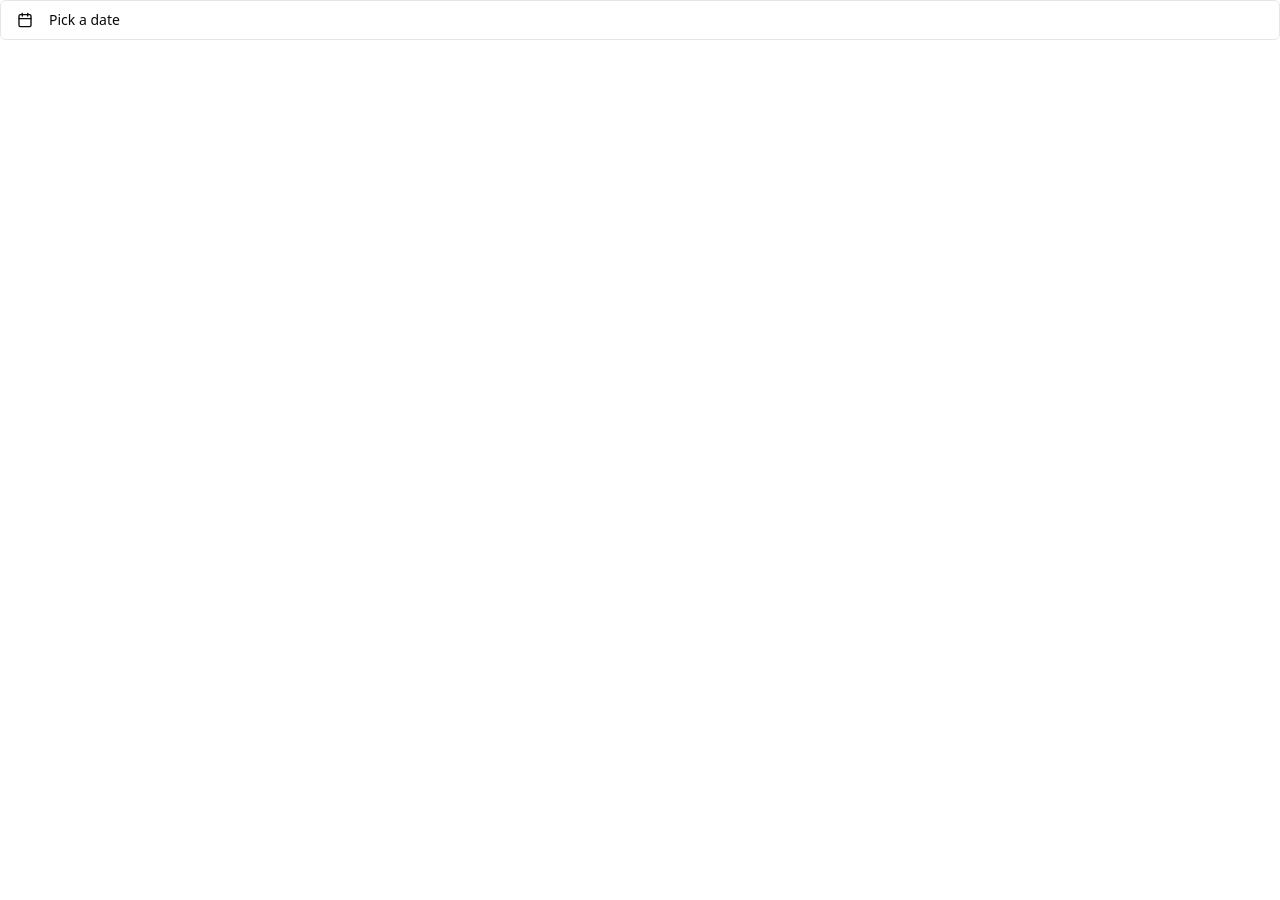
Test: DatePicker › renders drawer on mobile
Step 1. Click the button with test id "datepicker-trigger" → (84, 20), box [0, 0, 1279, 40]
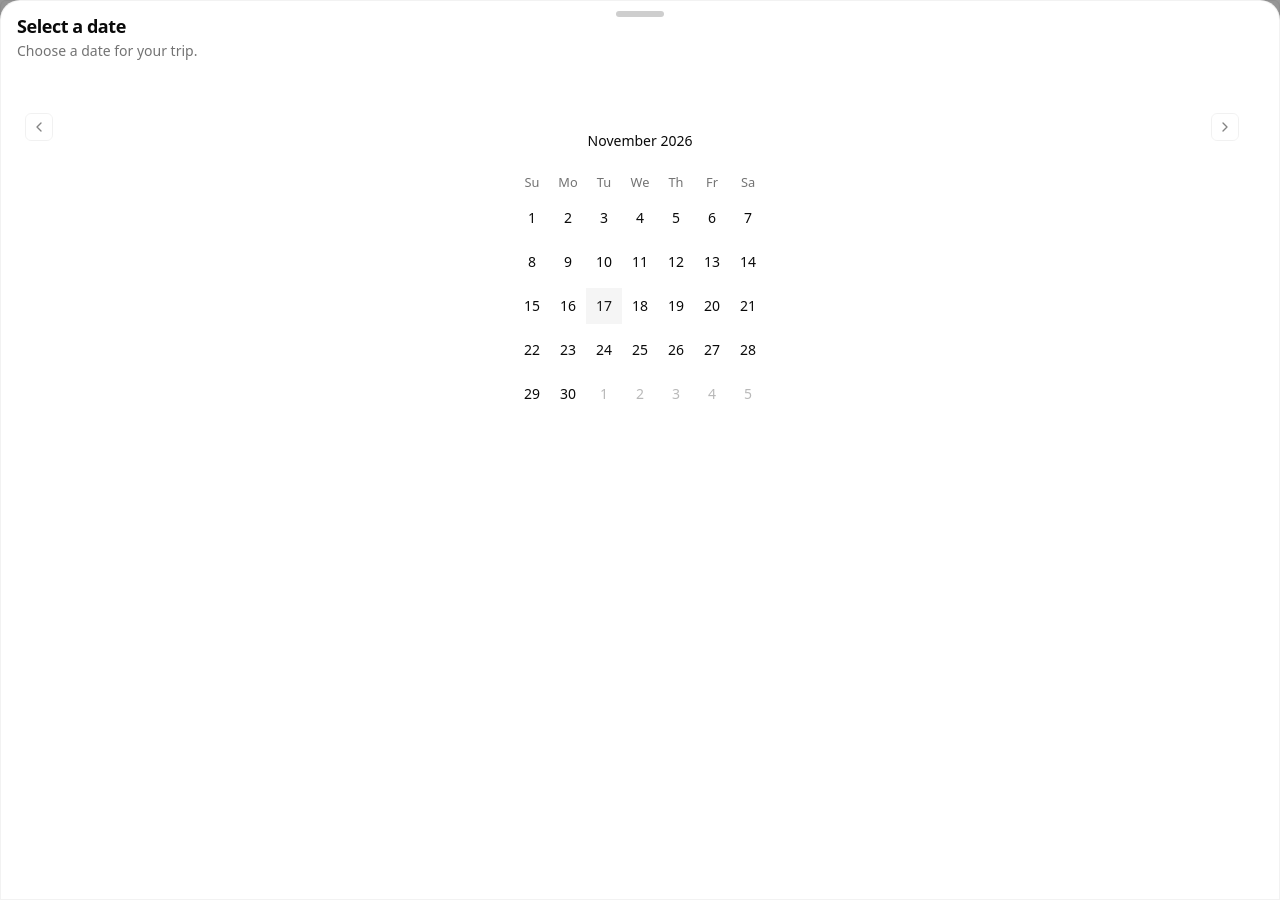
Result: the heading "Select a date" is shown at [17, 14, 126, 38]
Result: the element with test id "datepicker-calendar" is shown at [1, 77, 1279, 440]
